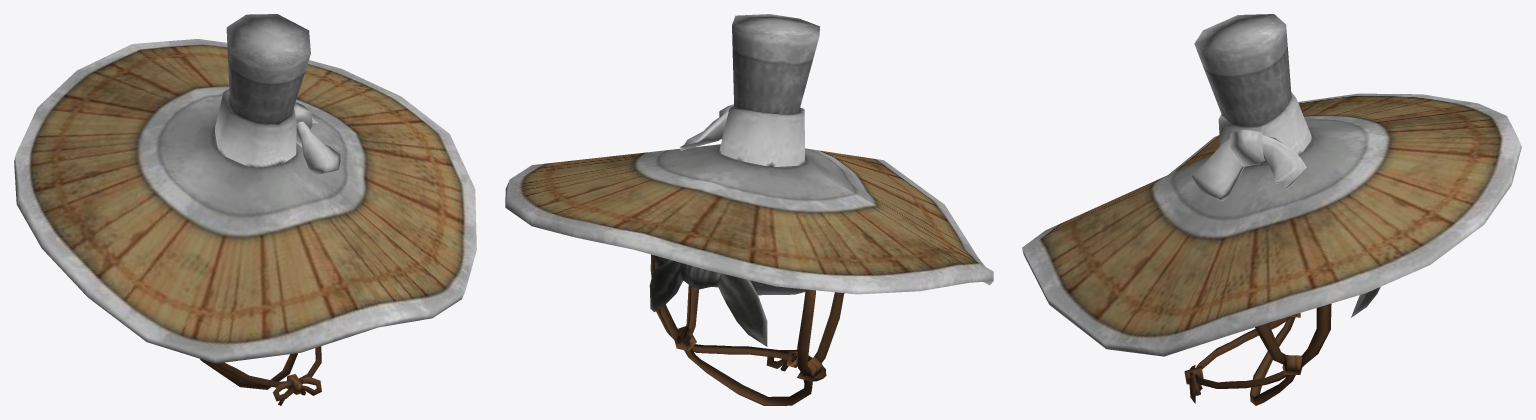
Rendered from helm-championguardhousesoldiers.glb.
3 renders of one model, left to right at view 1: azimuth 30°, elevation 25°; view 2: azimuth 150°, elevation 25°; view 3: azimuth 270°, elevation 25°, orthographic. The views are drawn at different scales.
Bounding box in the file's own units: 0.5575 × 0.4711 × 0.5688.
Materials: 1 (1 with a texture image).
